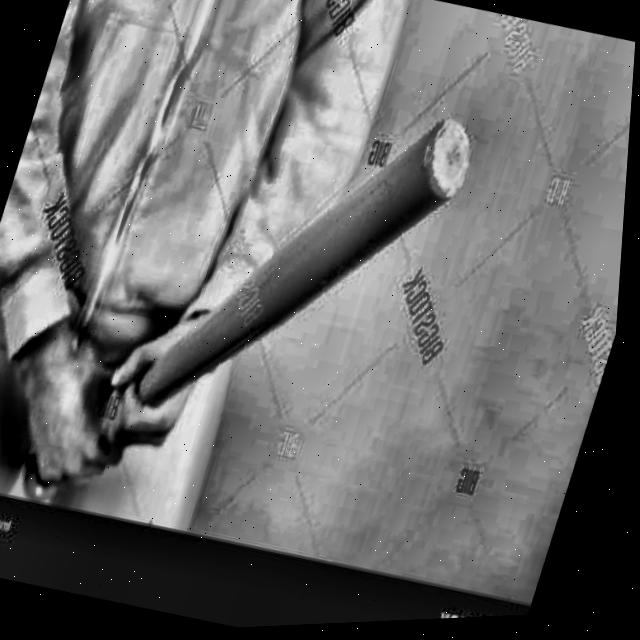tongkat pemukul: (13, 106, 479, 509)
